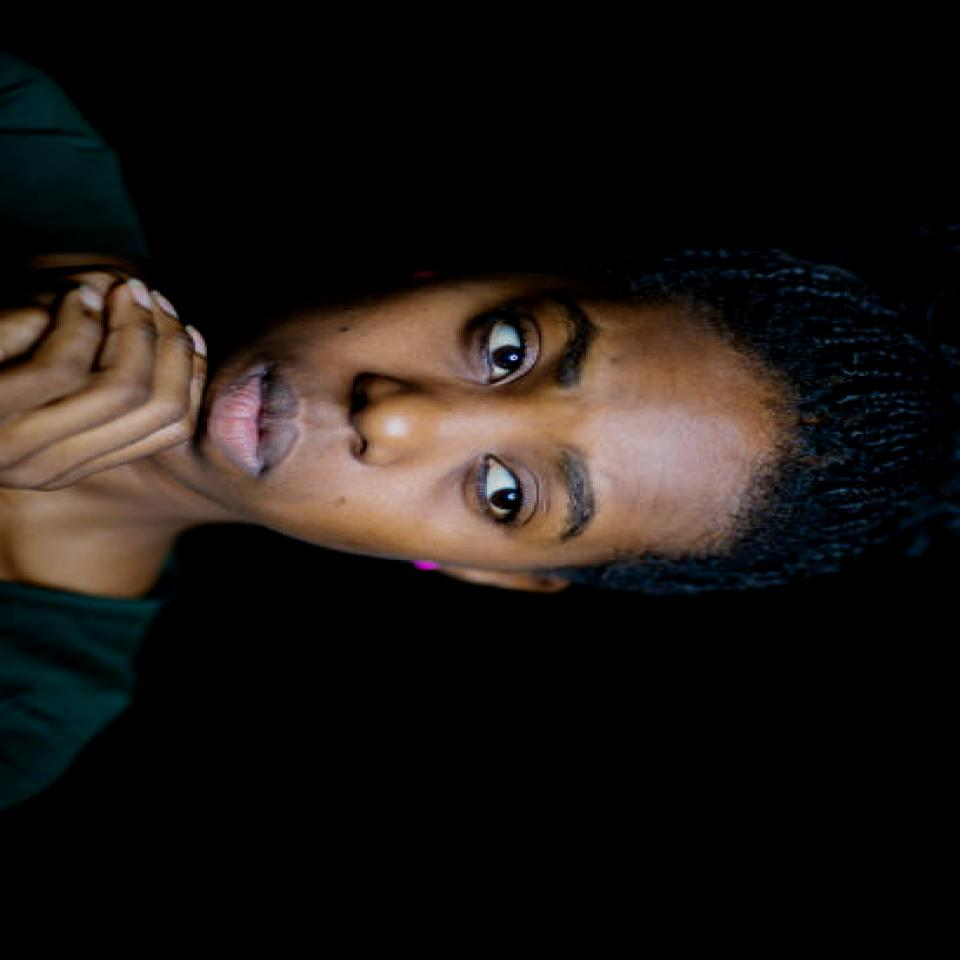Sadness: (198, 282, 746, 567)
